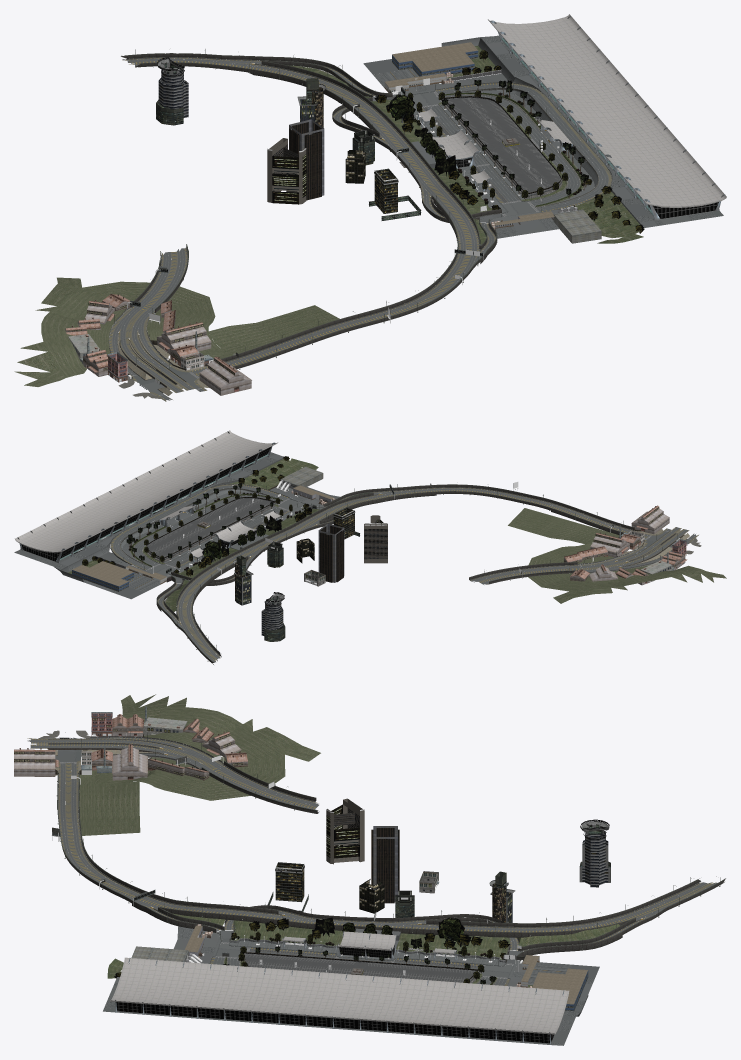
Rendered from airport.glb.
3 renders of one model, top to bottom at view 1: azimuth 30°, elevation 25°; view 2: azimuth 150°, elevation 25°; view 3: azimuth 270°, elevation 25°, orthographic. The views are drawn at different scales.
Visible parts, largest first — view 1: Object_70, Object_55, Object_81, Object_85, Object_66, Object_87, Object_86, Object_84, Object_63, Object_83, Object_67, Object_73 (+22 smaller); view 2: Object_70, Object_55, Object_66, Object_81, Object_85, Object_87, Object_86, Object_84, Object_63, Object_67, Object_98, Object_83 (+23 smaller); view 3: Object_70, Object_55, Object_66, Object_85, Object_98, Object_81, Object_87, Object_63, Object_84, Object_86, Object_73, Object_67 (+22 smaller).
Part boxes in pixels (<box>): Object_70: <box>418,14,726,207</box>; Object_55: <box>14,277,339,386</box>; Object_81: <box>133,35,723,395</box>; Object_85: <box>109,58,611,401</box>; Object_66: <box>121,53,501,368</box>; Object_87: <box>114,59,602,399</box>; Object_86: <box>112,58,580,400</box>; Object_84: <box>422,98,560,202</box>; Object_63: <box>288,45,643,244</box>; Object_83: <box>121,84,608,329</box>; Object_67: <box>117,57,615,393</box>; Object_73: <box>77,301,251,395</box>; Object_70: <box>15,430,280,557</box>; Object_55: <box>508,508,726,603</box>; Object_66: <box>156,484,633,662</box>; Object_81: <box>14,452,690,599</box>; Object_85: <box>111,484,698,663</box>; Object_87: <box>118,487,694,662</box>; Object_86: <box>133,488,695,661</box>; Object_84: <box>147,498,287,566</box>; Object_63: <box>68,458,319,611</box>; Object_67: <box>110,477,686,664</box>; Object_98: <box>21,447,270,561</box>; Object_83: <box>113,485,613,584</box>; Object_70: <box>110,931,569,1034</box>; Object_55: <box>79,694,320,835</box>; Object_66: <box>58,761,725,962</box>; Object_85: <box>27,738,715,985</box>; Object_98: <box>116,945,554,1043</box>; Object_81: <box>55,737,599,1045</box>; Object_87: <box>28,741,716,985</box>; Object_63: <box>107,910,620,987</box>; Object_84: <box>245,949,477,982</box>; Object_86: <box>27,739,705,984</box>; Object_73: <box>14,725,241,780</box>; Object_67: <box>48,738,724,985</box>.
Size of the model in its own units: 1254 by 124 by 1035.
100 materials, 99 textured.
